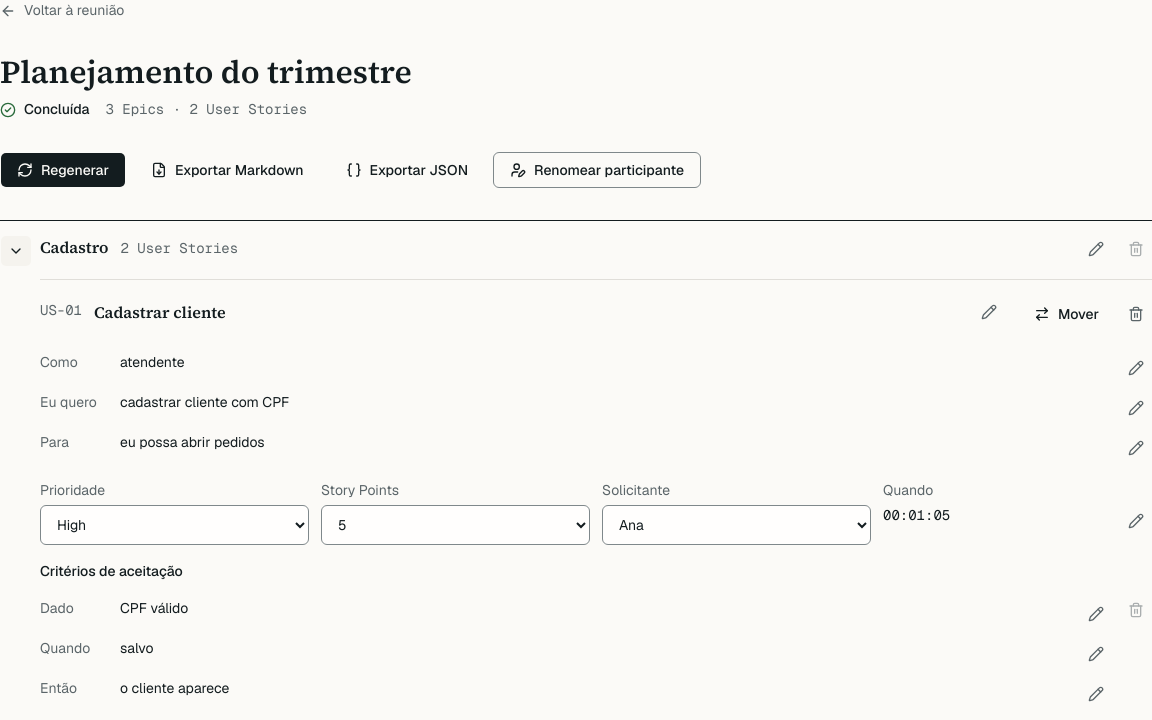
Test: mover US abre a escolha entre as outras Epics (backlog-review 43)
The image size is (1152, 720).
Click the button "Mover" at (1066, 314), box [1017, 296, 1116, 332]
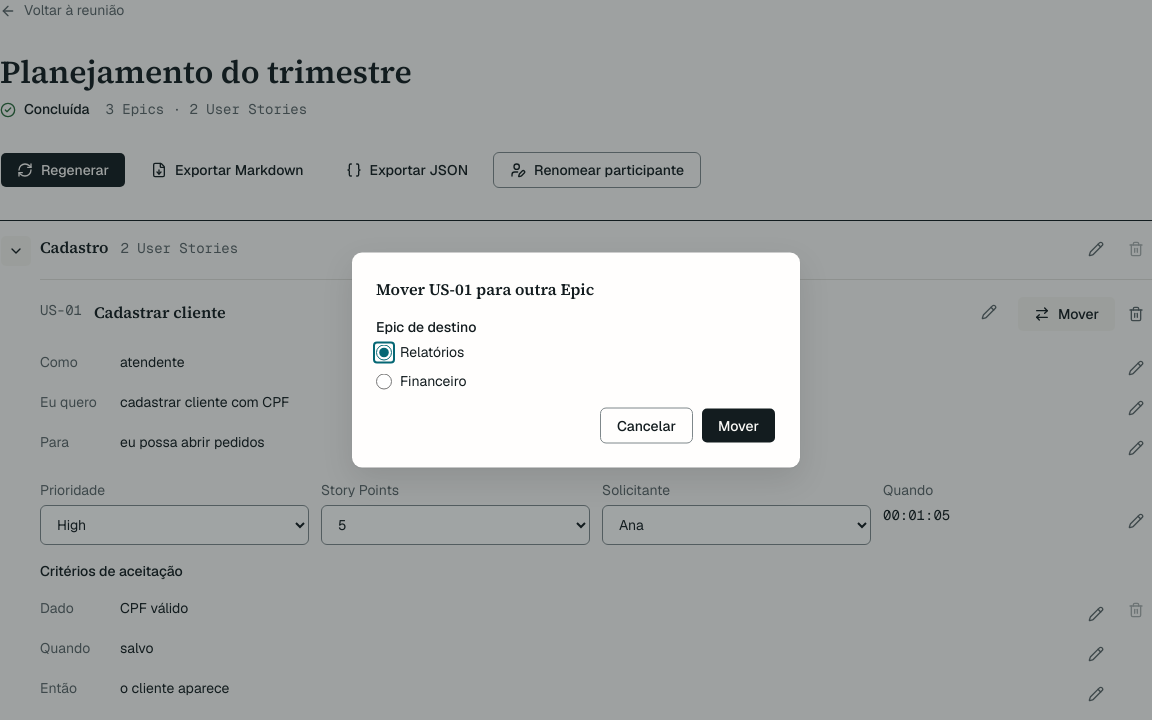
Click the radio button labelled "Financeiro" at (384, 381), box [376, 373, 392, 389]
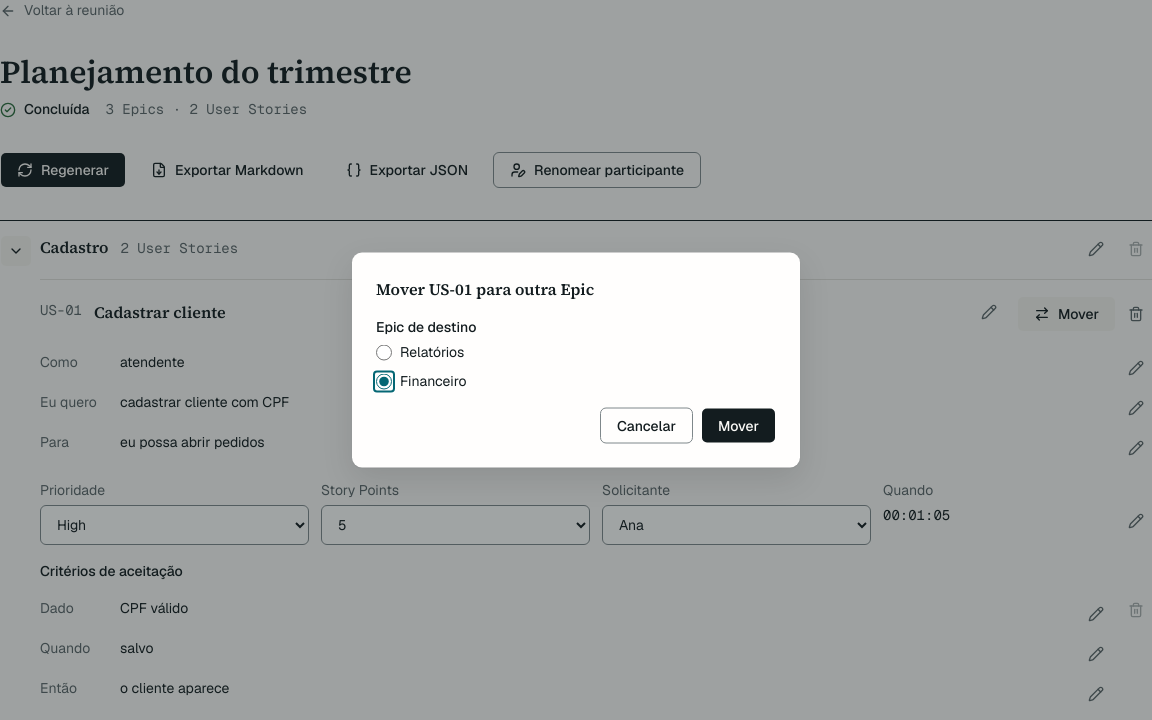
Click the button "Mover" at (738, 426), box [701, 408, 776, 444]
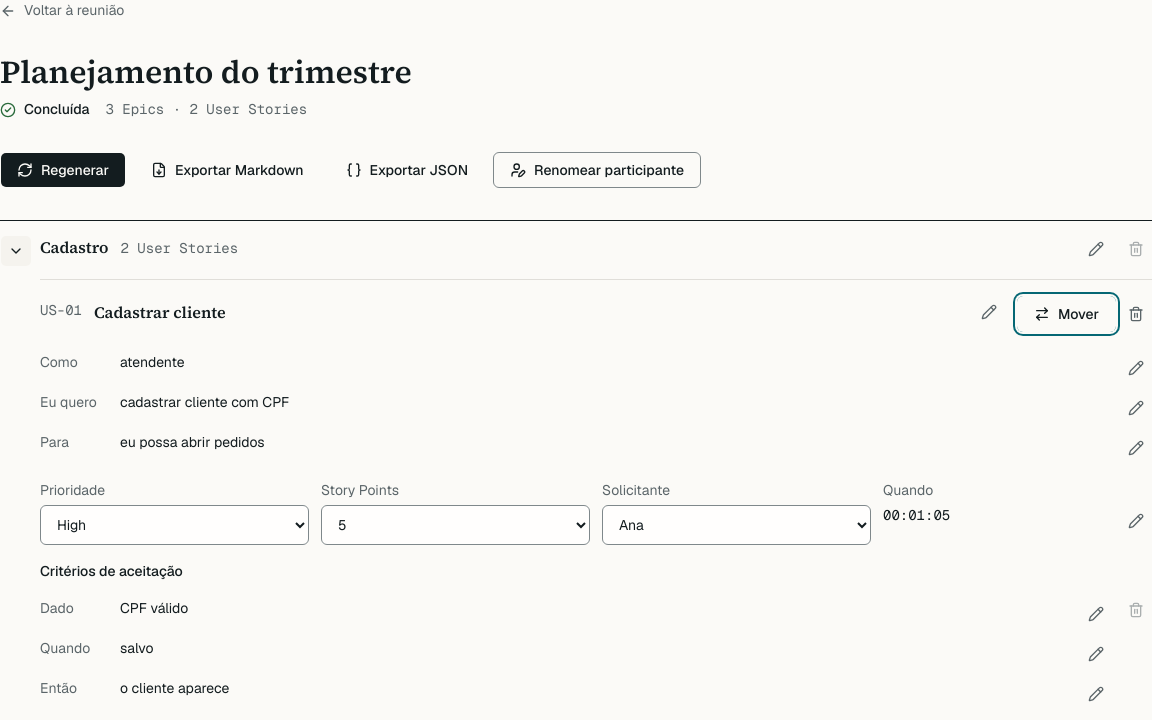
Expected: the dialog is gone
